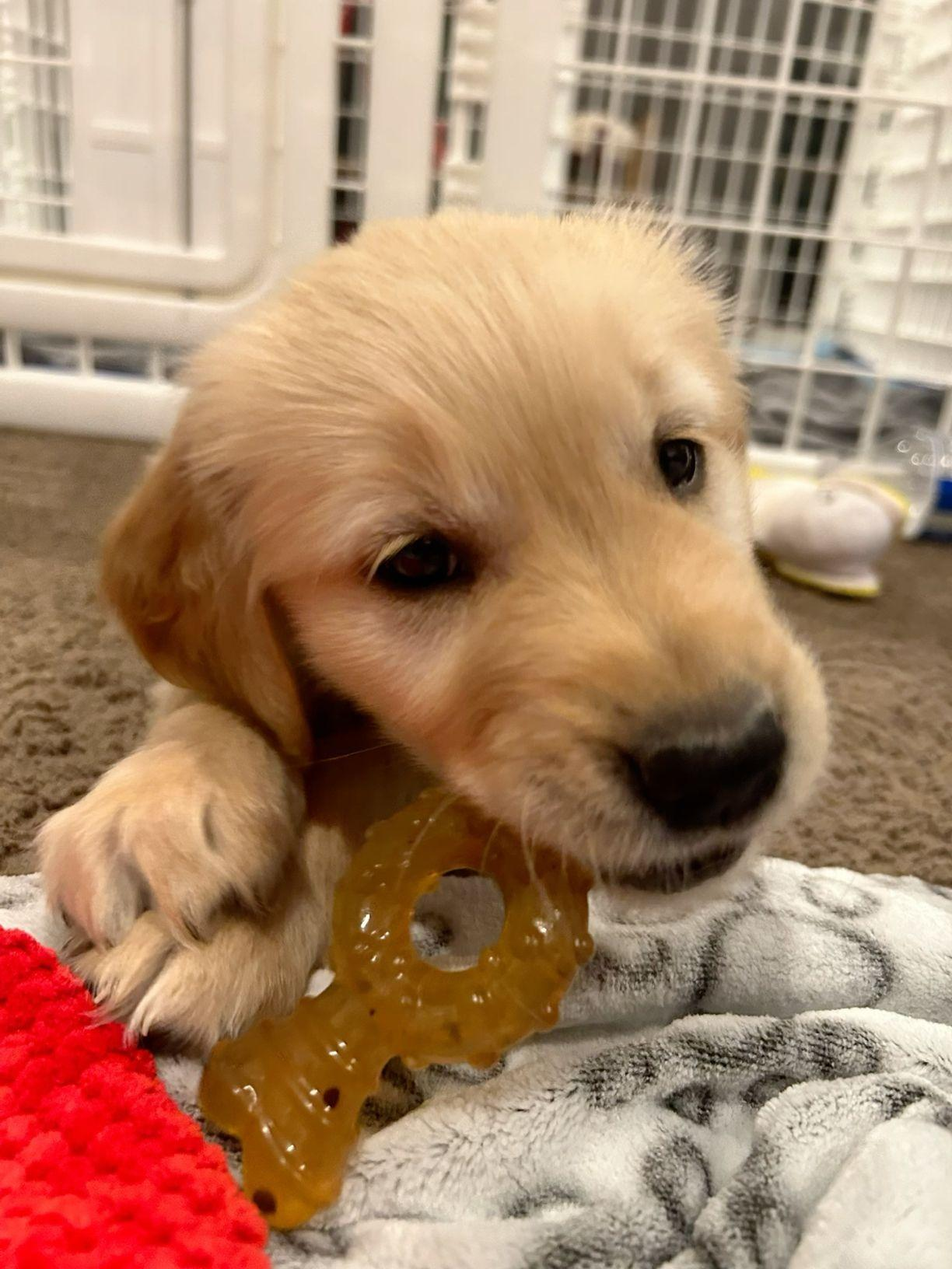puppy-dog: (37, 200, 839, 1062)
